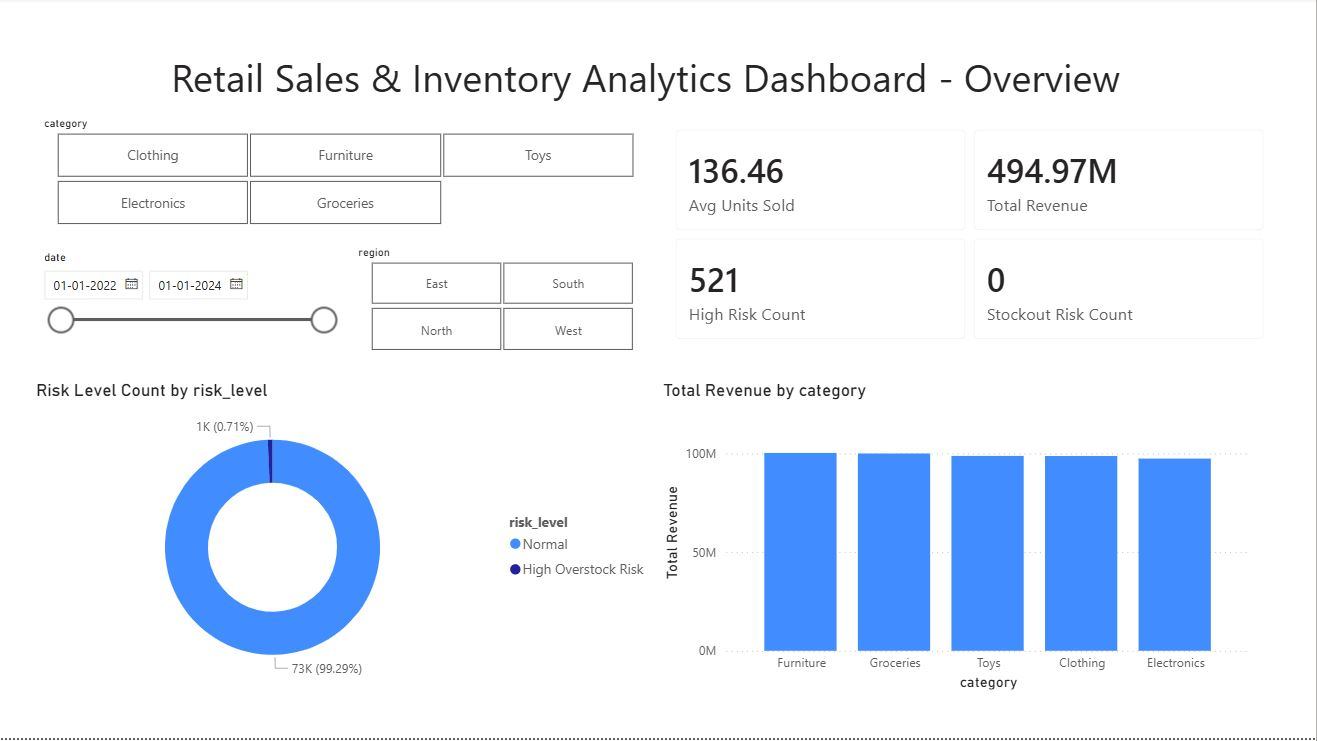

Layout of this report page (visuals, bound fields, positions):
{"tool":"powerbi","page":{"name":"Page 1","canvas":[1280,720],"ordinal":0},"visuals":[{"type":"slicer","fields":{"Values":["retail_db sales_transactions.category"]},"box":[30.2,110.9,609.8,115.7],"z":0},{"type":"slicer","fields":{"Values":["retail_db sales_transactions.region"]},"box":[335.6,236.4,304.4,112.8],"z":1000},{"type":"slicer","fields":{"Values":["retail_db sales_transactions.date"]},"box":[30.2,241.2,305.4,102.1],"z":2000},{"type":"cardVisual","fields":{"Data":["retail_db sales_transactions.Avg Units Sold","retail_db sales_transactions.Total Revenue","retail_db inventory_risk_metrics.High Risk Count","retail_db inventory_risk_metrics.Stockout Risk Count"]},"box":[640,110.9,607.9,238.3],"z":3000},{"type":"donutChart","fields":{"Y":["retail_db inventory_risk_metrics.Risk Level Count"],"Category":["retail_db inventory_risk_metrics.risk_level"]},"box":[30.2,371.6,609.8,306.4],"z":4000},{"type":"clusteredColumnChart","fields":{"Category":["retail_db sales_transactions.category"],"Y":["retail_db sales_transactions.Total Revenue"]},"box":[640,371.6,581.6,306.4],"z":5000},{"type":"textbox","box":[161.5,46.7,956.1,64.2],"z":6000}]}

Visuals, with their boxes in screenshot pixels (x1, y1, x2, y2), scaled from the page's 1280x720 canvas onto the 1317x741 screenshot:
slicer - retail_db sales_transactions.category: 31, 114, 658, 233
slicer - retail_db sales_transactions.region: 345, 243, 658, 359
slicer - retail_db sales_transactions.date: 31, 248, 345, 353
cardVisual - retail_db sales_transactions.Avg Units Sold x retail_db sales_transactions.Total Revenue: 658, 114, 1284, 359
donutChart - retail_db inventory_risk_metrics.Risk Level Count x retail_db inventory_risk_metrics.risk_level: 31, 382, 658, 698
clusteredColumnChart - retail_db sales_transactions.category x retail_db sales_transactions.Total Revenue: 658, 382, 1257, 698
textbox: 166, 48, 1150, 114
